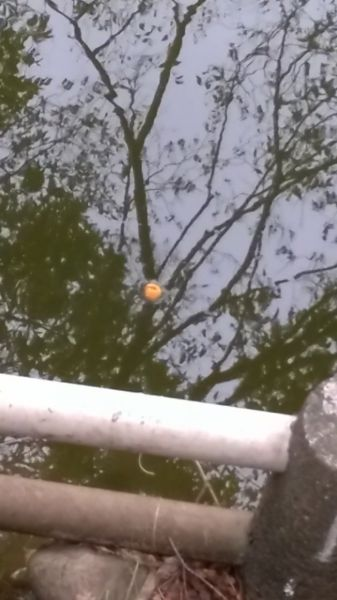eggs: (136, 279, 168, 304)
